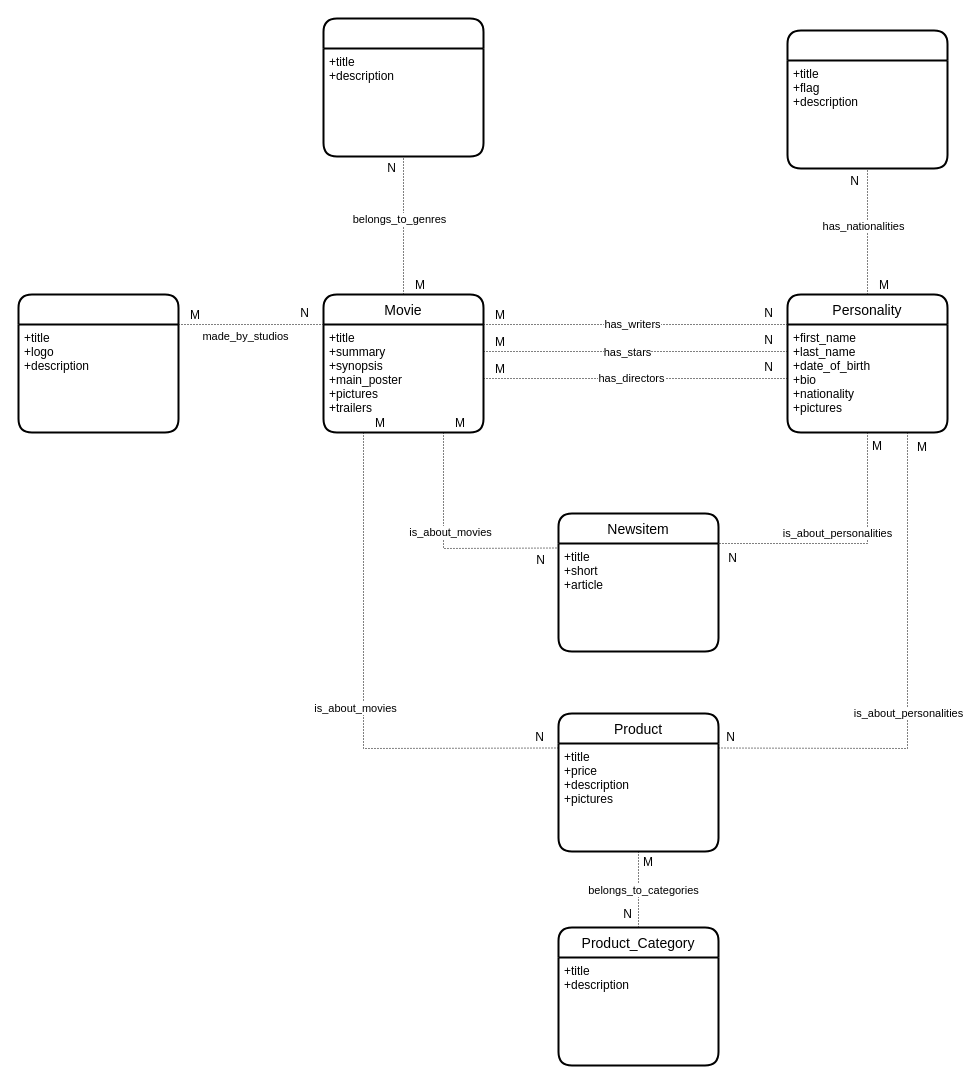
The diagram is 980 pixels wide and 1083 high, and some of its shapes have lost their labels. Each missing label, with the box of its shape:
Country: (786, 29, 948, 169)
Genre: (322, 17, 484, 157)
Studio: (17, 293, 179, 433)
